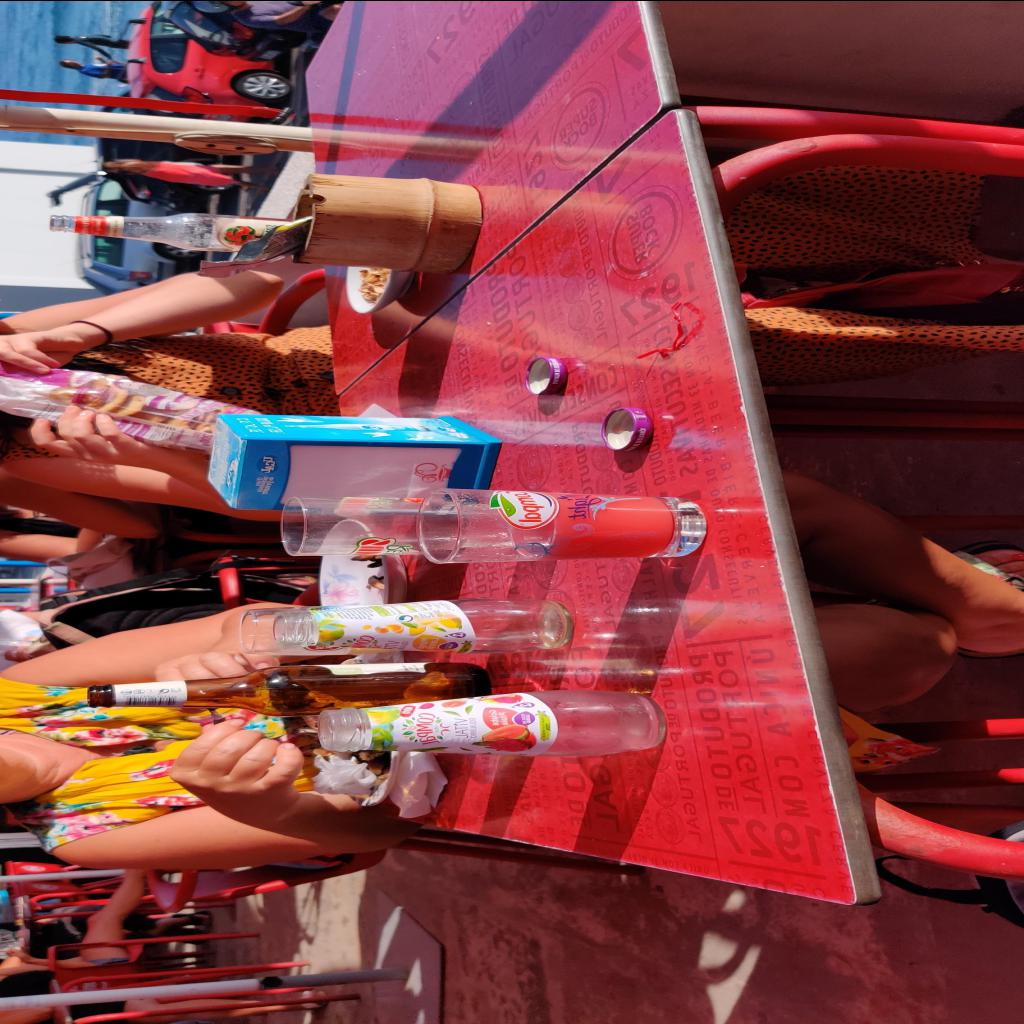Glass bottle: (318, 689, 666, 756), (86, 662, 492, 716), (274, 596, 574, 652), (50, 212, 290, 252)
Metal bottle cap: (601, 406, 653, 450), (526, 356, 568, 394)
Plastic film: (0, 360, 264, 454)
